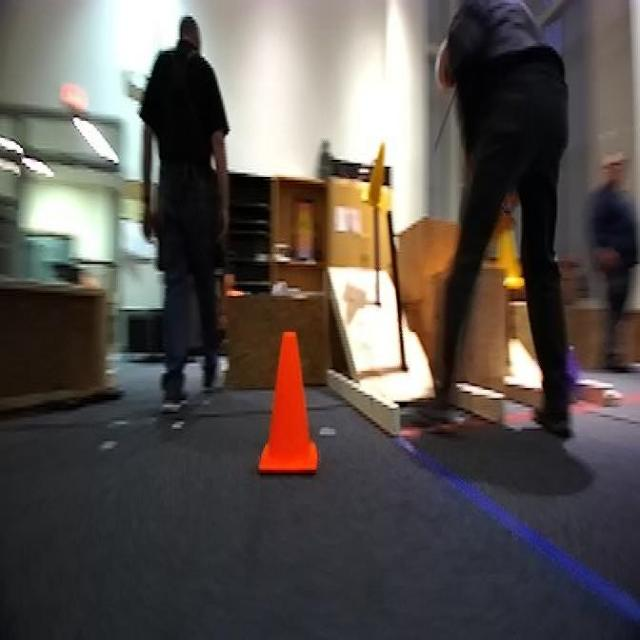frc_cone: (490, 221, 524, 293), (362, 140, 391, 208)
frc_cube: (552, 342, 584, 402)
